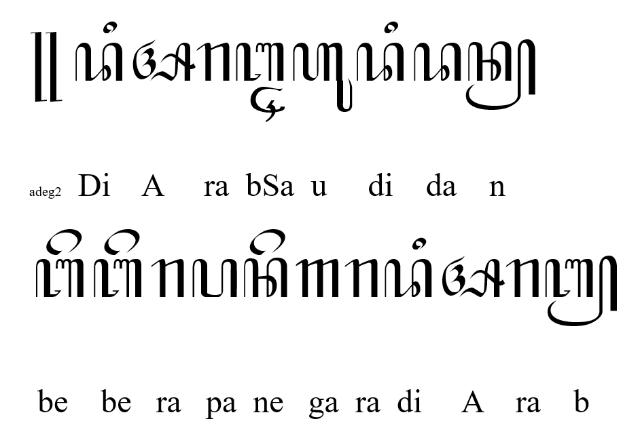-b: (544, 255, 620, 327)
-n: (466, 38, 536, 112)
A: (133, 38, 195, 82), (441, 256, 505, 298)
_T: (250, 86, 286, 122)
adeg2: (31, 31, 63, 103)
b: (34, 258, 84, 297), (236, 42, 284, 82), (94, 259, 142, 299)
d: (412, 42, 462, 82), (76, 42, 124, 82), (356, 42, 404, 82), (384, 260, 432, 298)
e: (102, 229, 140, 255), (46, 230, 82, 256), (249, 230, 285, 256)
g: (296, 259, 340, 299)
hu: (291, 42, 353, 112)
i: (102, 20, 118, 34), (412, 236, 426, 251), (384, 20, 398, 34)
n: (242, 258, 288, 298)
p: (191, 258, 237, 297)
r: (504, 258, 540, 300), (196, 42, 230, 82), (151, 258, 185, 298), (346, 258, 380, 297)
